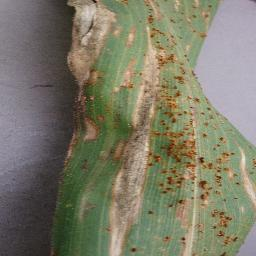Corn_Blight: (103, 0, 254, 256), (65, 1, 103, 137), (50, 138, 100, 230)
